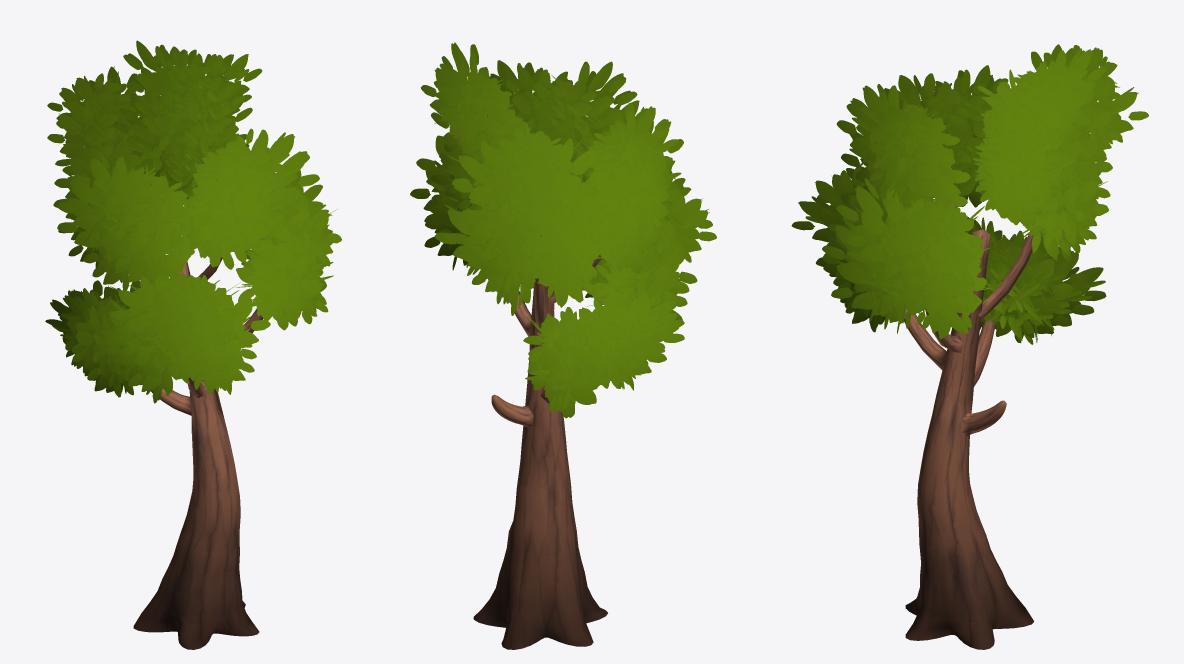
Rendered from n_CommonTree_5.glb.
3 renders of one model, left to right at view 1: azimuth 30°, elevation 25°; view 2: azimuth 150°, elevation 25°; view 3: azimuth 270°, elevation 25°, orthographic. The views are drawn at different scales.
Visible parts, largest first — view 1: CommonTree_5; view 2: CommonTree_5; view 3: CommonTree_5.
Part boxes in pixels (bbox=[...]): CommonTree_5: bbox=[45, 40, 341, 649]; CommonTree_5: bbox=[410, 42, 716, 649]; CommonTree_5: bbox=[791, 44, 1148, 649].
Bounding box in the file's own units: 3.67 × 7.01 × 4.22.
Materials: 2 (2 with a texture image).
